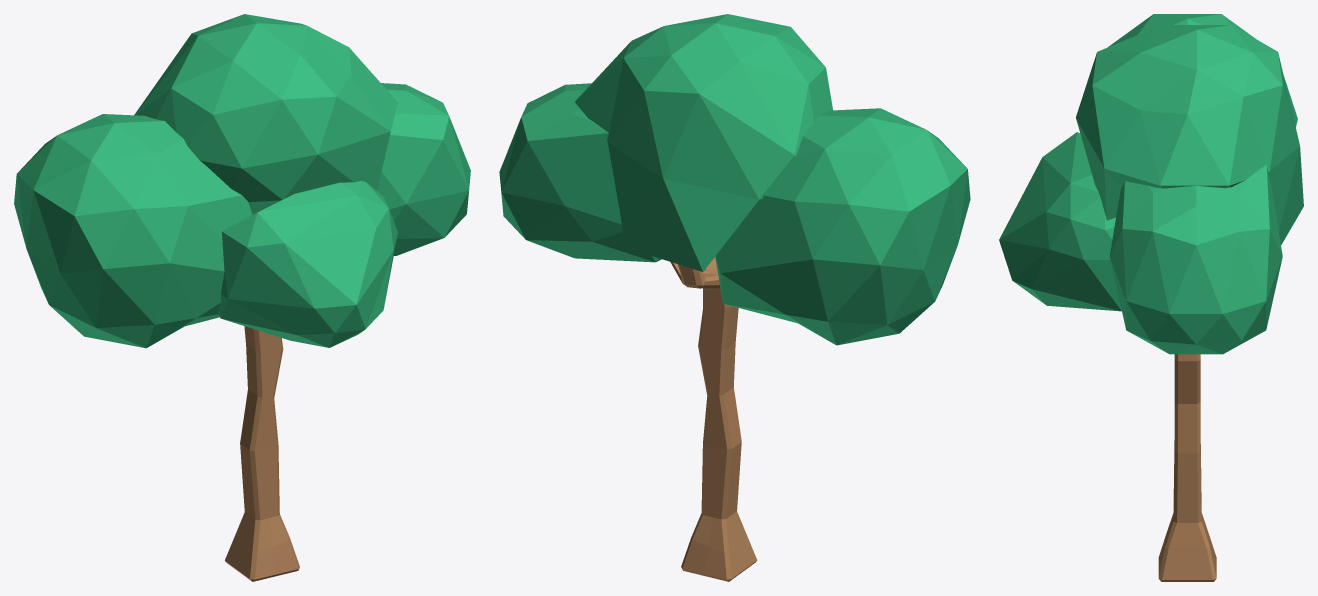
The model's file is tree.fbx.
The picture shows the model from 3 angles, left to right: view 1: azimuth 30°, elevation 25°; view 2: azimuth 150°, elevation 25°; view 3: azimuth 270°, elevation 25°; orthographic projection.
Visible parts, largest first — view 1: Icosphere.001, Icosphere.002, Icosphere.003, Icosphere, Cube; view 2: Icosphere.002, Icosphere.001, Icosphere, Cube; view 3: Icosphere.002, Icosphere, Icosphere.003, Cube, Icosphere.001.
Part boxes in pixels (box(x1,y1,x2,y2)): Icosphere.001: box(14, 114, 252, 348); Icosphere.002: box(134, 14, 397, 214); Icosphere.003: box(218, 181, 397, 347); Icosphere: box(377, 83, 470, 255); Cube: box(225, 326, 299, 581); Icosphere.002: box(575, 14, 832, 271); Icosphere.001: box(715, 108, 970, 345); Icosphere: box(499, 83, 661, 262); Cube: box(670, 257, 757, 581); Icosphere.002: box(1076, 25, 1303, 245); Icosphere: box(1109, 164, 1282, 354); Icosphere.003: box(999, 132, 1121, 311); Cube: box(1158, 354, 1216, 581); Icosphere.001: box(1108, 14, 1297, 127).
Size of the model in its own units: 1663 by 2005 by 1025.
